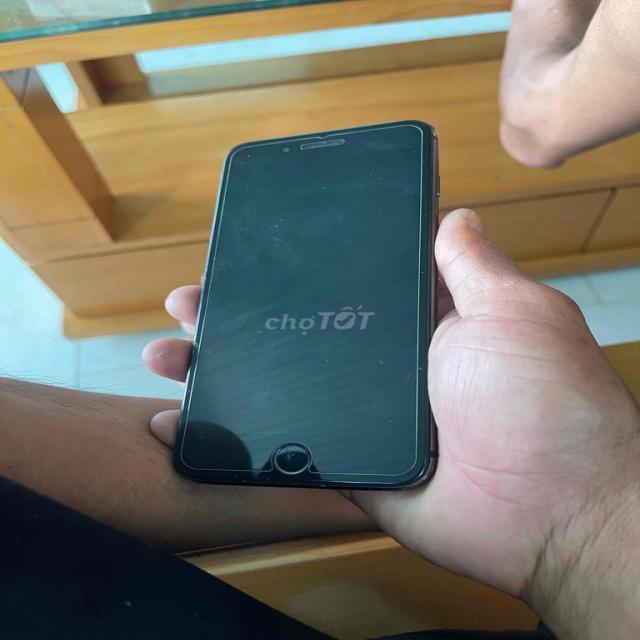scratch: (230, 148, 255, 189), (274, 438, 308, 468)
